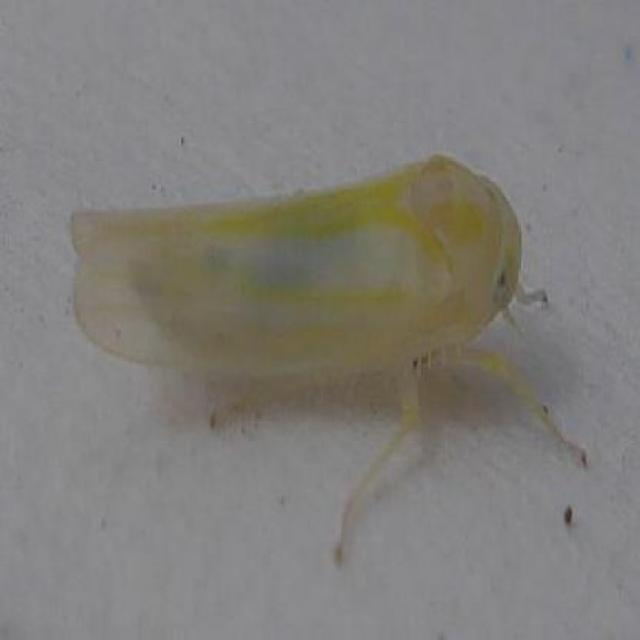green-leafhopper: (72, 163, 514, 415)
